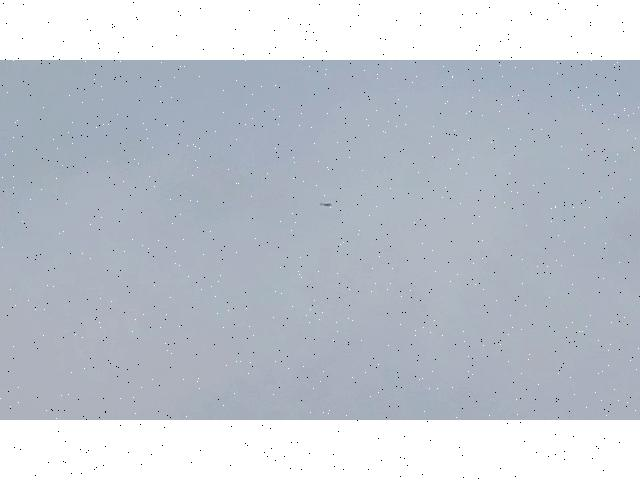Anti-Drone: (320, 199, 332, 209)
